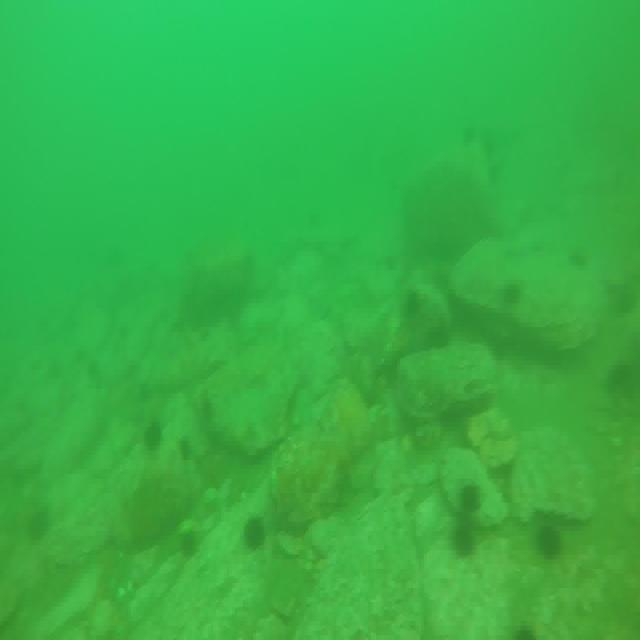echinus: (534, 522, 564, 558), (452, 521, 476, 558), (458, 482, 482, 518), (244, 522, 268, 548), (142, 423, 162, 451), (501, 282, 522, 308), (180, 531, 199, 558)
